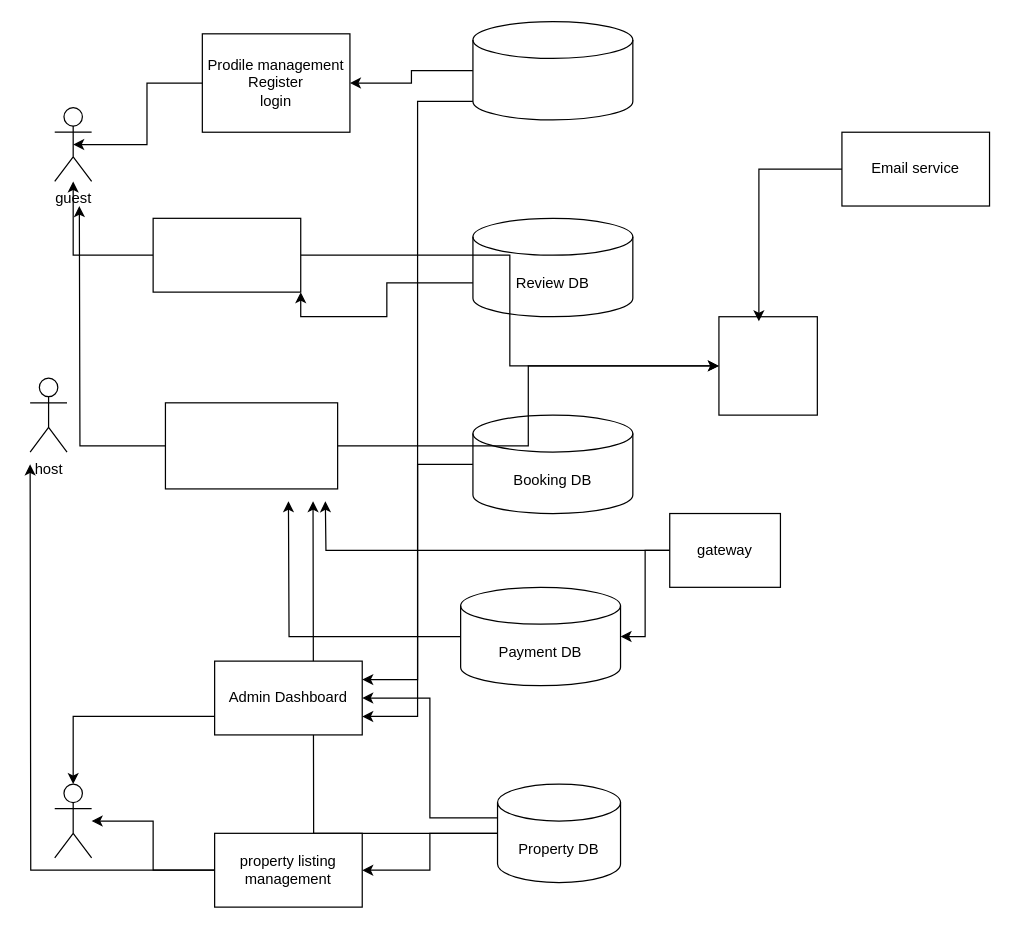
The diagram is 1011 pixels wide and 929 high, and some of its shapes have lost their labels. The box of each missing label's shape, as (x1, y1, x2, y2) in pixels:
admin: (54, 783, 92, 858)
notification: (718, 315, 817, 415)
Review& Rating: (152, 217, 301, 292)
search & booking: (164, 402, 338, 489)
User DB: (472, 20, 633, 120)
